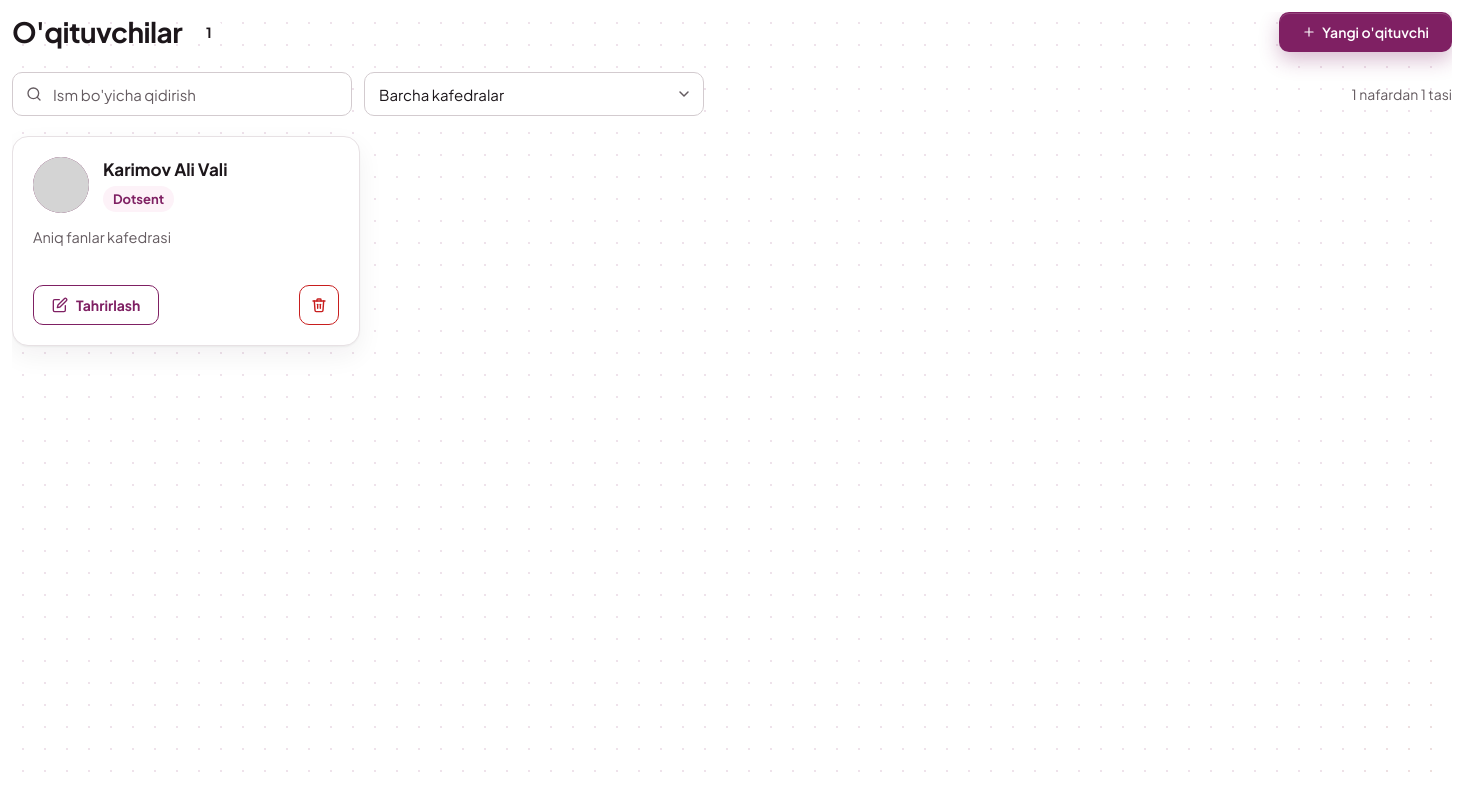
Test: TeachersAdmin: forma › tahrirlash: mavjud ma'lumot to'ldiriladi, PUT yuboriladi (existingImage), ro'yxat yangilanadi
The width and height of the screenshot is (1464, 786).
Click the button with aria-label "Tahrirlash: Karimov Ali Vali" at {"x": 96, "y": 305}, box [33, 285, 159, 325]
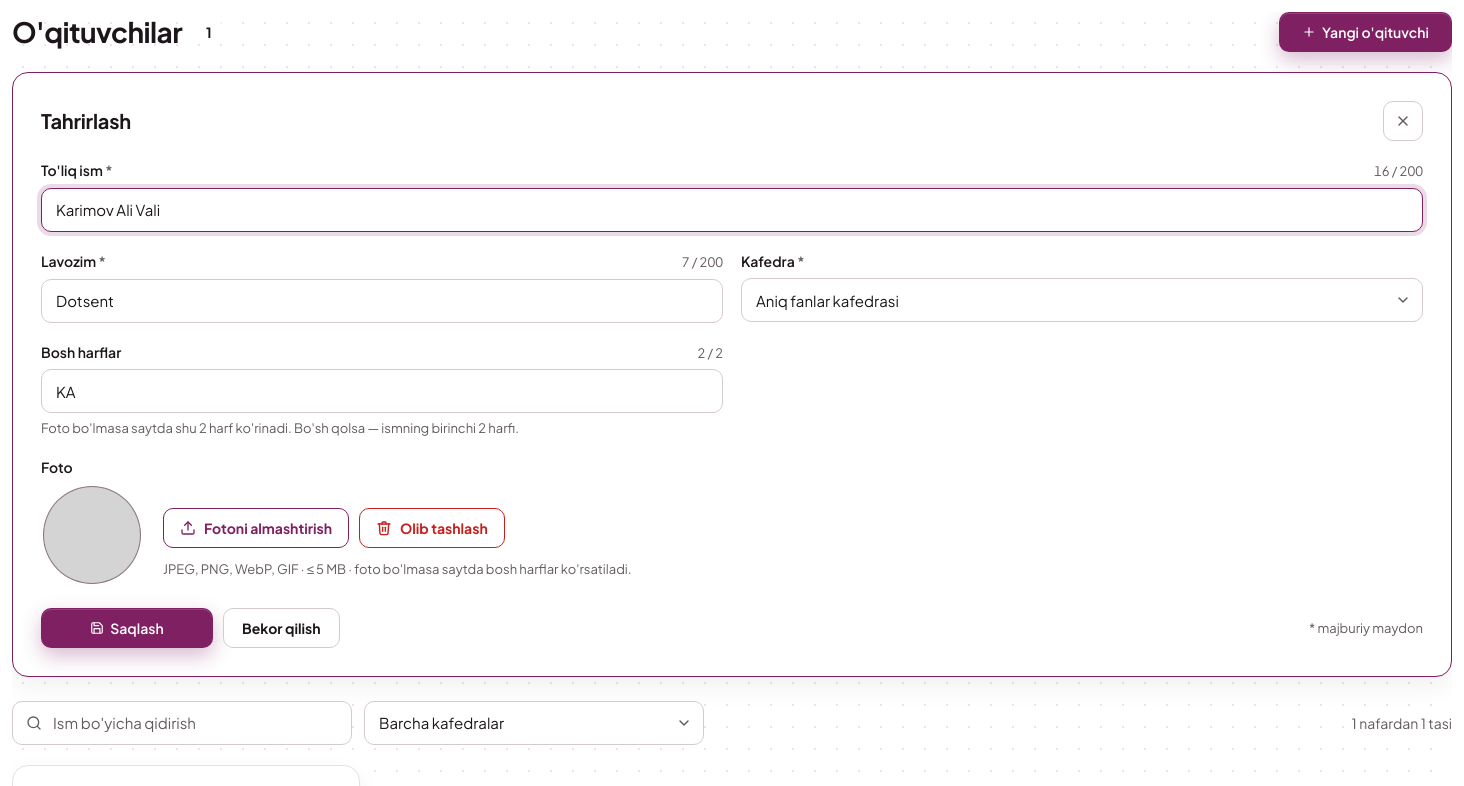
Expected: the field labelled "To'liq ism *" holds "Karimov Ali Vali", [41, 188, 1423, 232]
Expected: the dropdown labelled "Kafedra" shows "Aniq fanlar kafedrasi", [741, 278, 1423, 322]
Replace the text in the field labelled "Lavozim *" with "Professor" at {"x": 382, "y": 301}, box [41, 279, 723, 323]
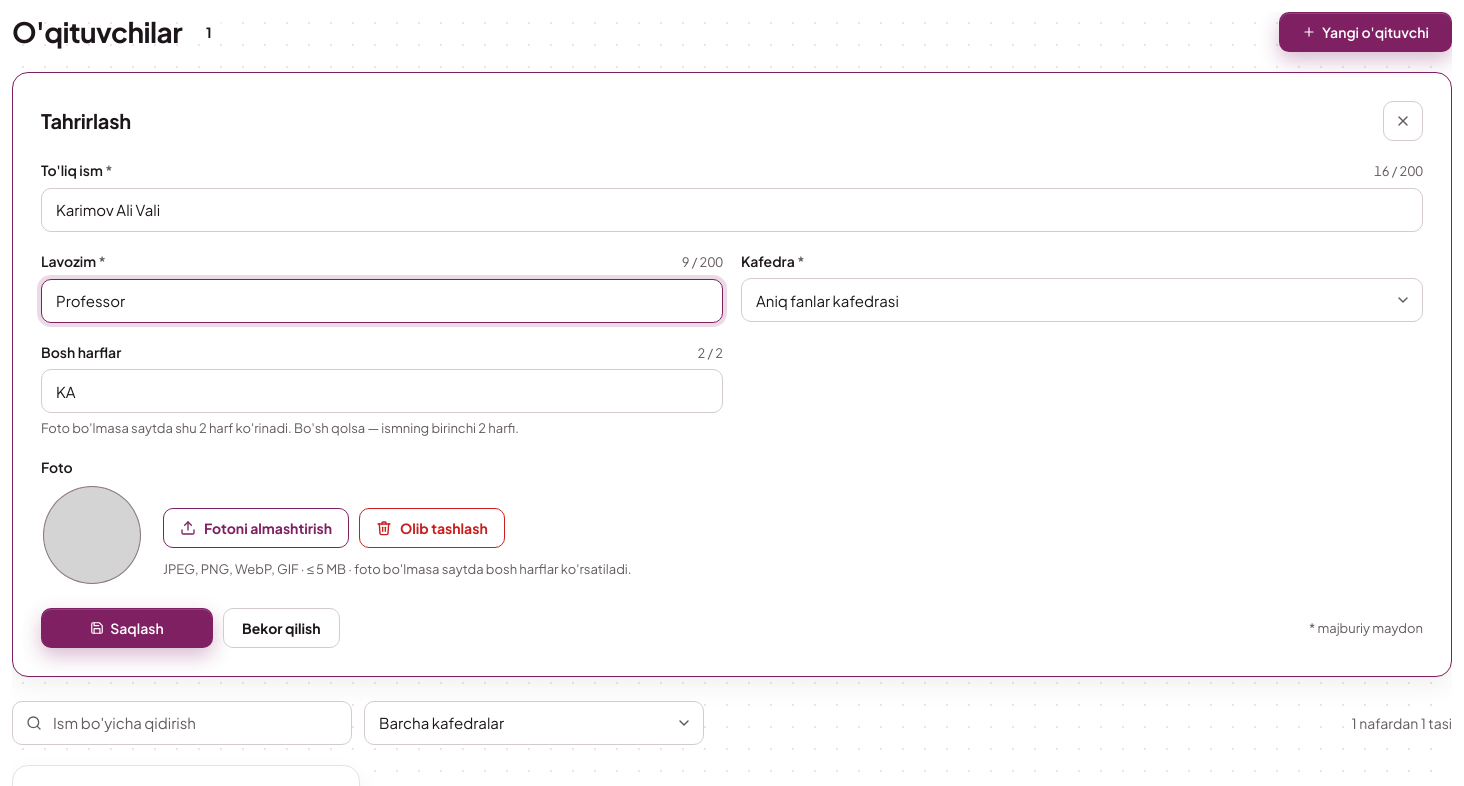
Click the button "Saqlash" at {"x": 127, "y": 628}, box [41, 608, 213, 648]
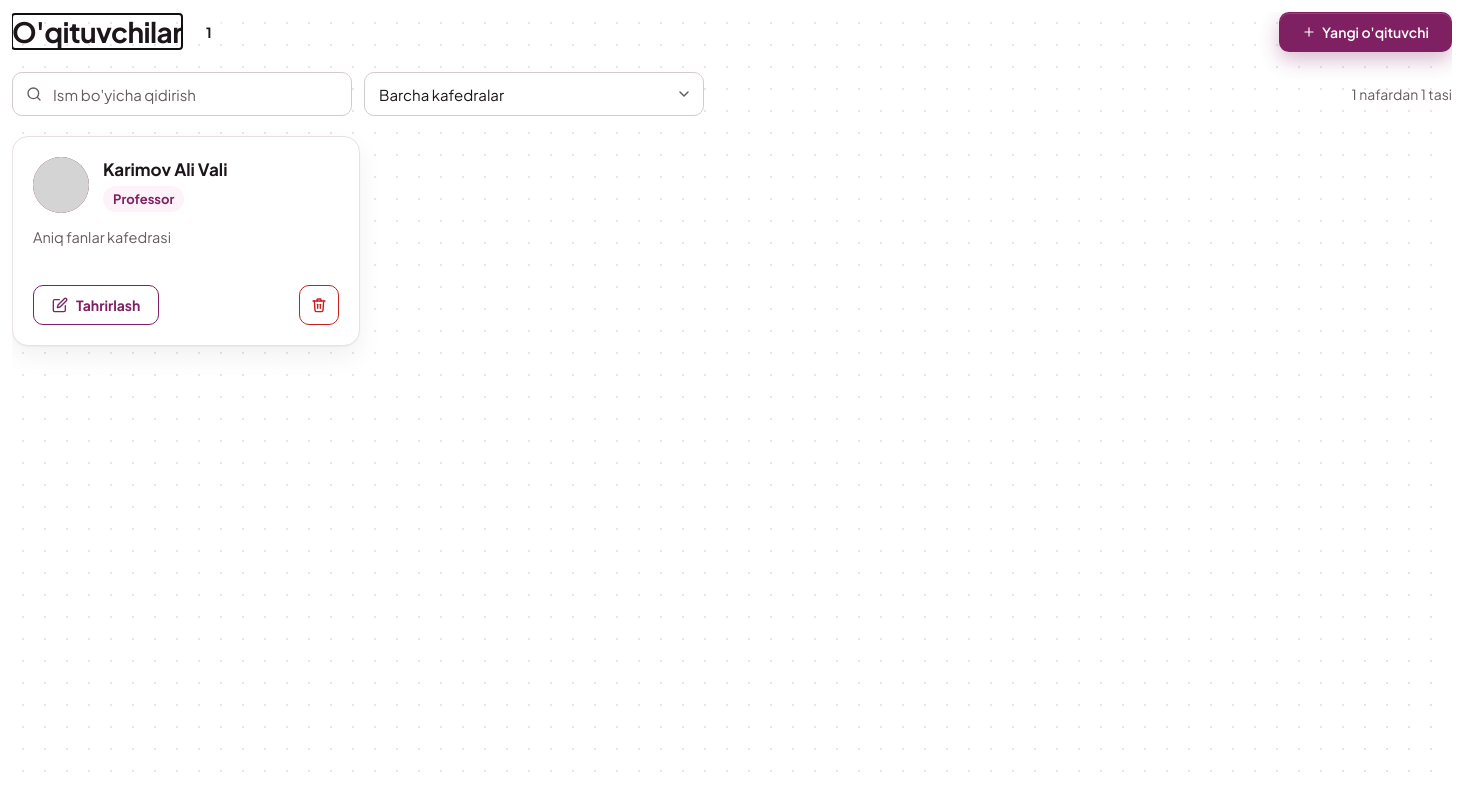
Expected: the text "Professor" is shown, [103, 186, 184, 212]
Expected: the label labelled "To'liq ism" is gone
